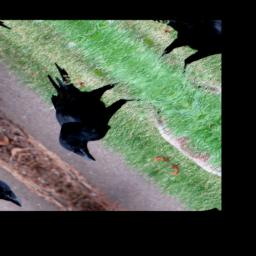Crow: (0, 48, 169, 168)
